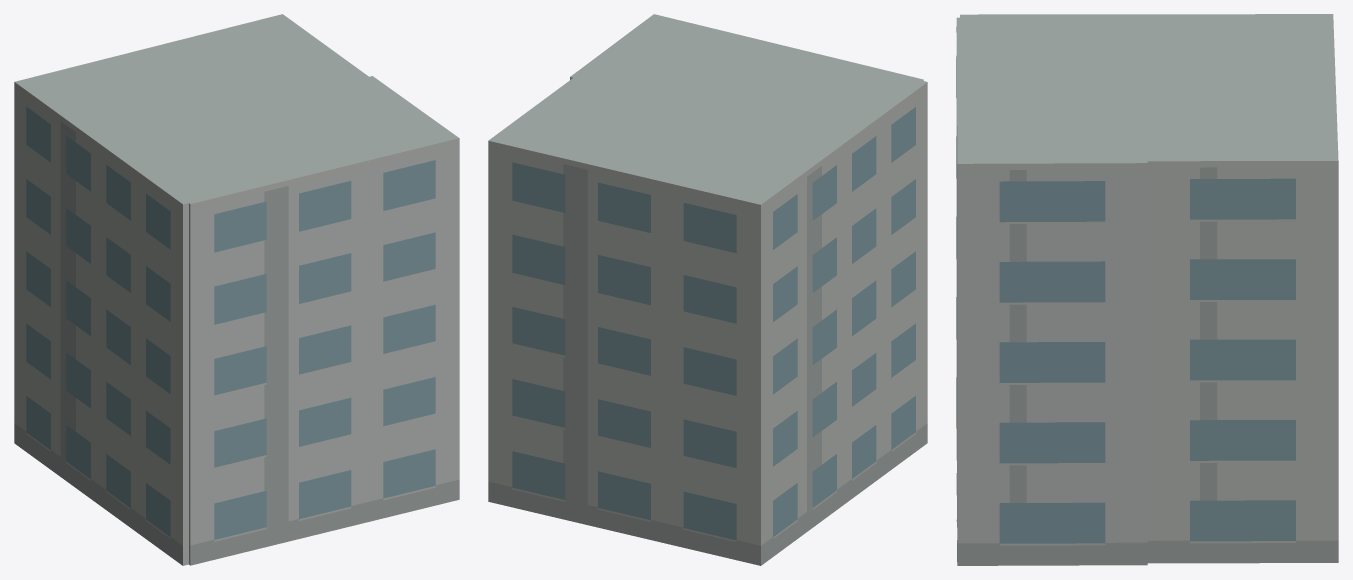
Rendered from survey-upis-32832823.glb.
3 renders of one model, left to right at view 1: azimuth 30°, elevation 25°; view 2: azimuth 150°, elevation 25°; view 3: azimuth 270°, elevation 25°, orthographic. The views are drawn at different scales.
Parts seen in each view (by area): view 1: survey-upis-32832823.tmp; view 2: survey-upis-32832823.tmp; view 3: survey-upis-32832823.tmp.
Part boxes in pixels (x1,y1,x2,y2): survey-upis-32832823.tmp: [14, 14, 459, 565]; survey-upis-32832823.tmp: [488, 14, 927, 565]; survey-upis-32832823.tmp: [956, 14, 1338, 565].
Size of the model in its own units: 12.32 by 15.39 by 13.27.
